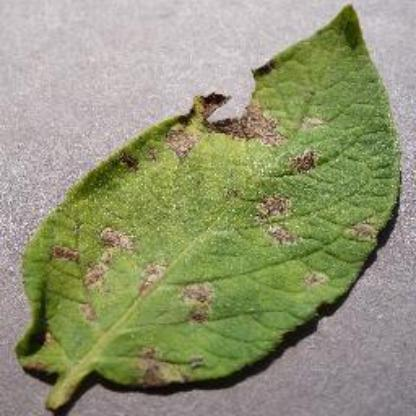Early-Blight: (12, 0, 414, 416)
